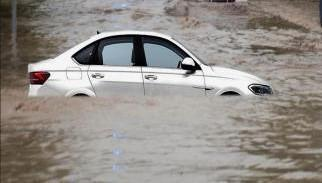water: (0, 0, 321, 182), (0, 0, 104, 180)
